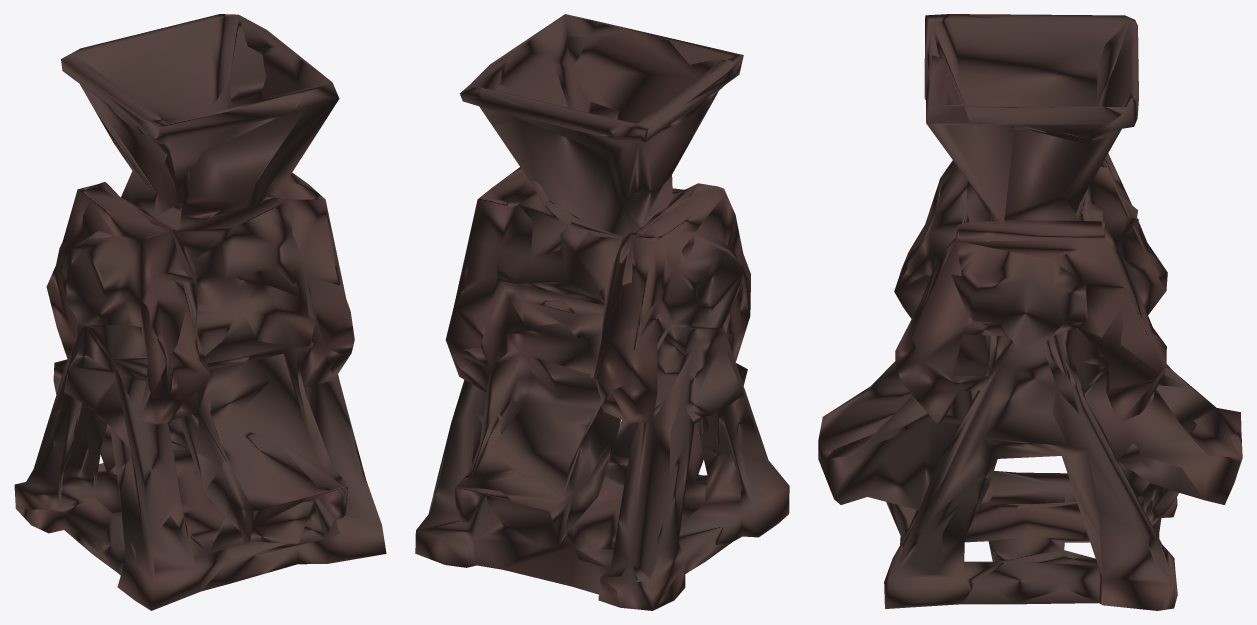
File: gen3d-ore-crusher-lod0.glb
3 renders of one model, left to right at view 1: azimuth 30°, elevation 25°; view 2: azimuth 150°, elevation 25°; view 3: azimuth 270°, elevation 25°, orthographic. The views are drawn at different scales.
Visible parts, largest first — view 1: part_0; view 2: part_0; view 3: part_0.
Part boxes in pixels (x1,y1,x2,y2): part_0: [14, 14, 386, 610]; part_0: [415, 14, 789, 610]; part_0: [818, 14, 1242, 610].
Size of the model in its own units: 0.5524 by 0.9998 by 0.7858.
